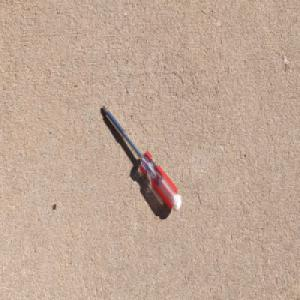Screwdriver: (99, 101, 182, 214)
